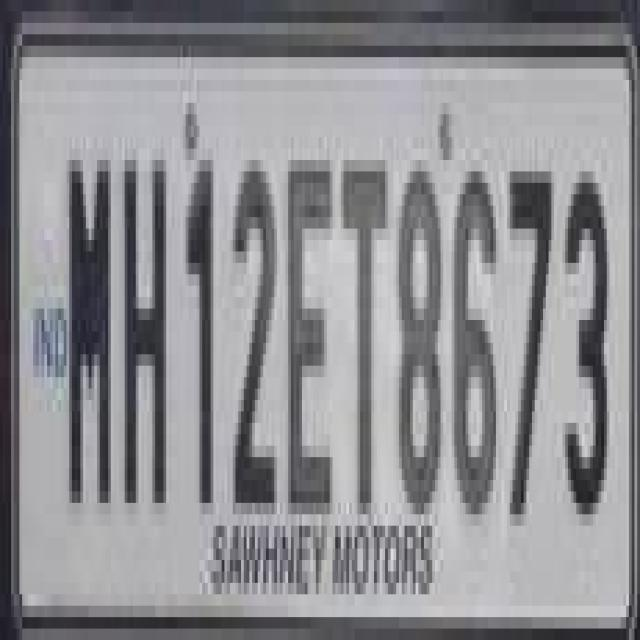license_plate: (25, 11, 640, 640)
